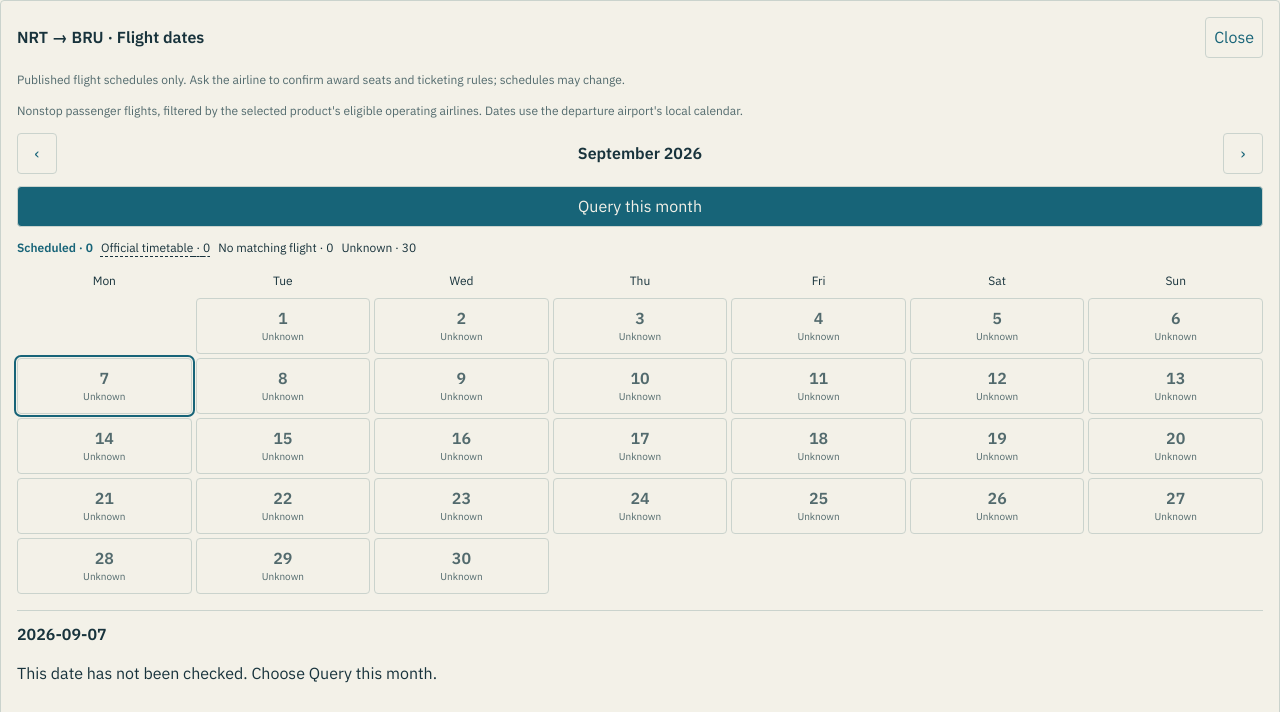
a gateway failure retains safe official positives and displays the failure
Click the button "Query this month". click: click(640, 206)
box: 17,186 -> 1263,227
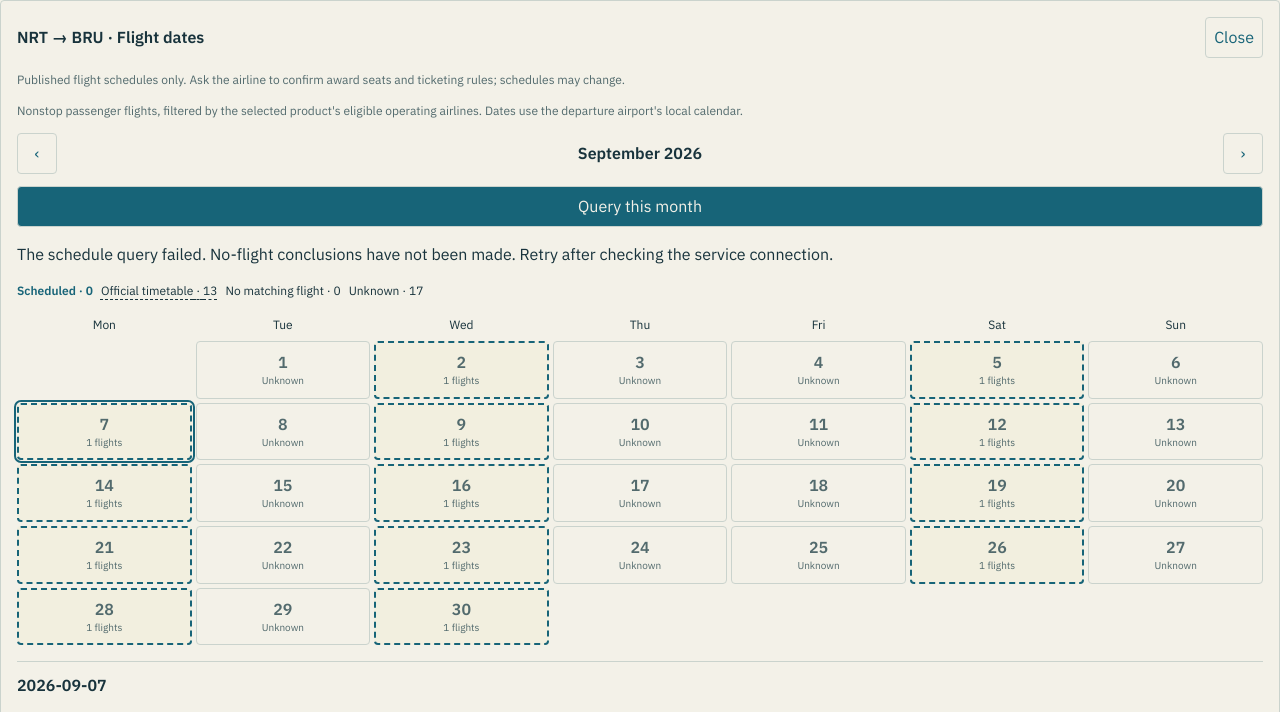
Check: the message shows "query failed", box 17,244 -> 833,264
